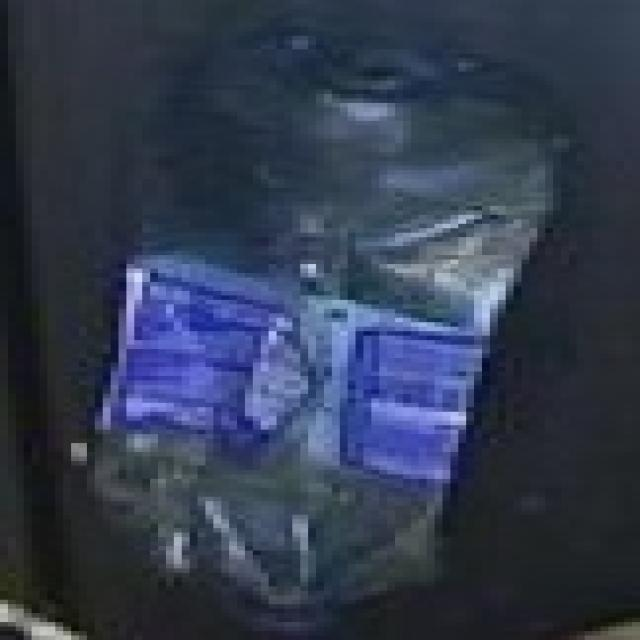plasticbottle: (55, 0, 525, 624)
